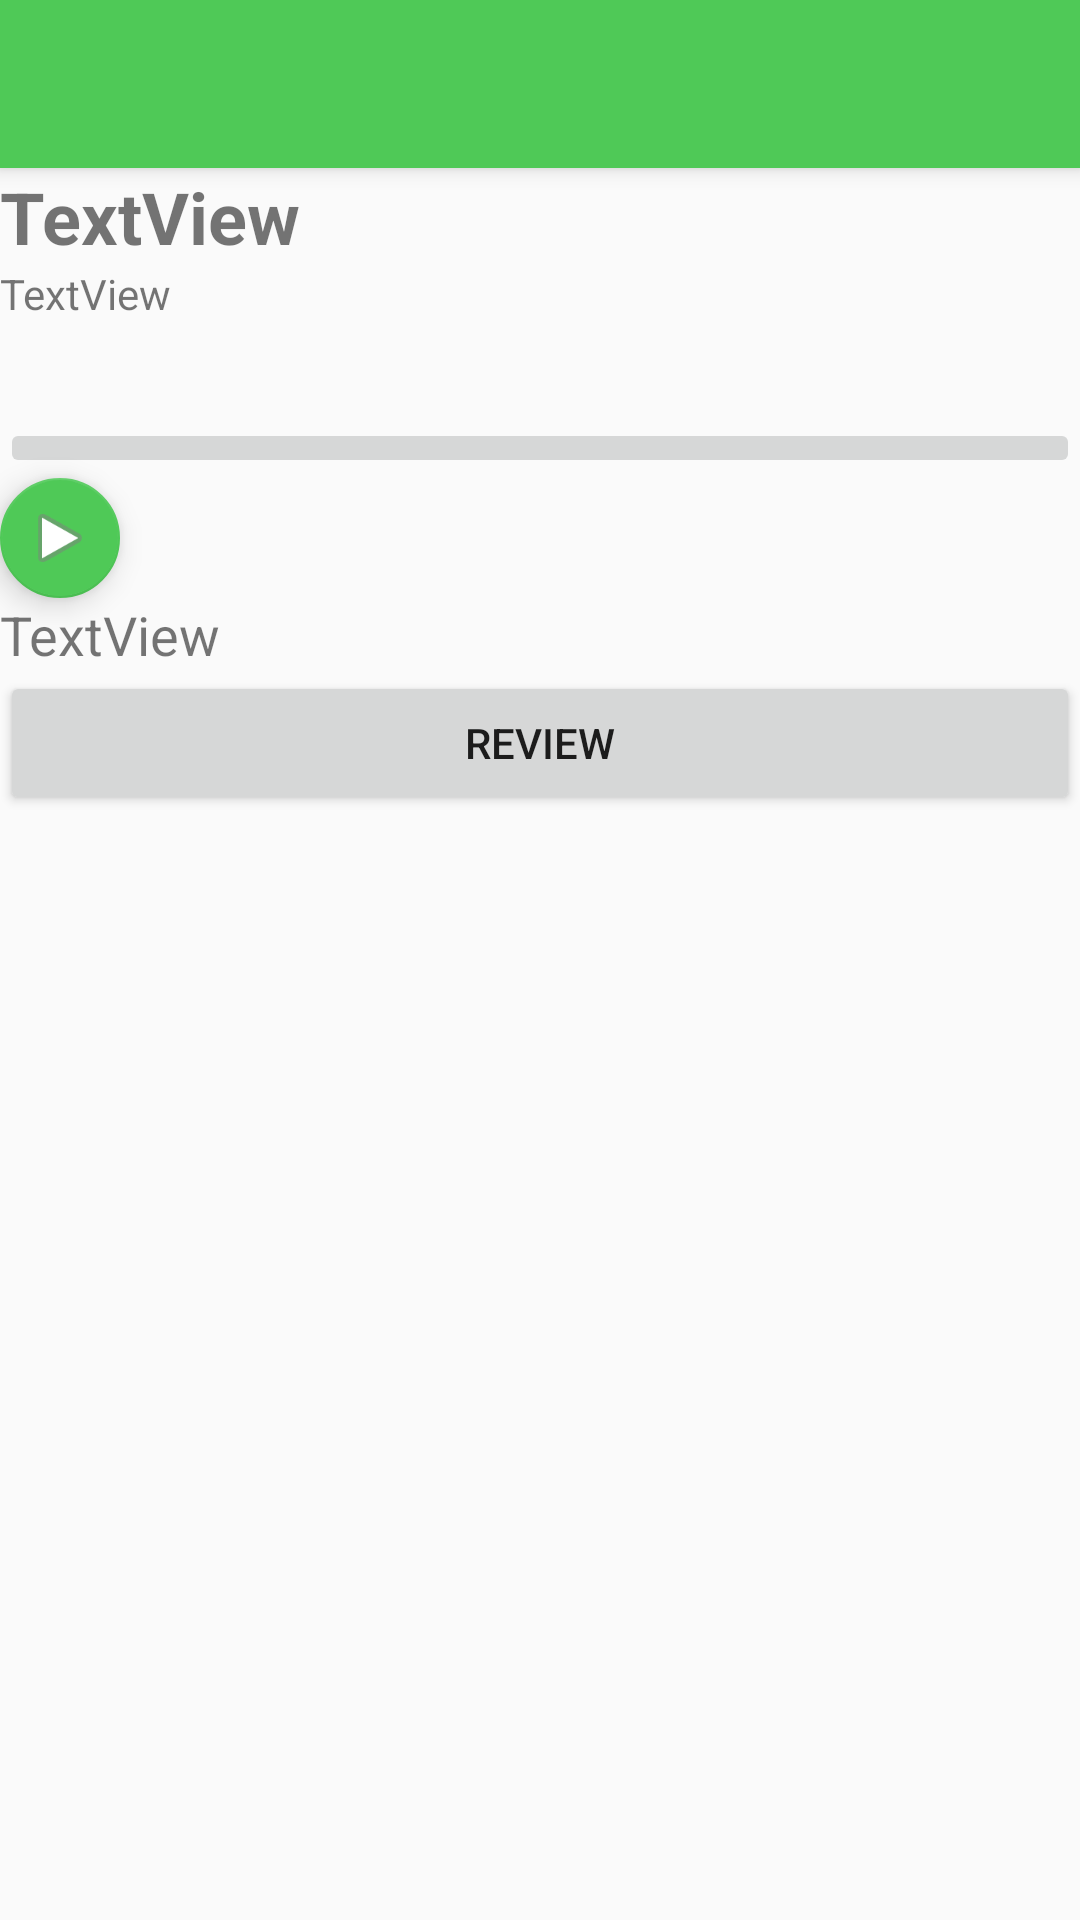

Where to tap for icons on this 1080x1920 app screen, as (x,y):
play: (60,538)
